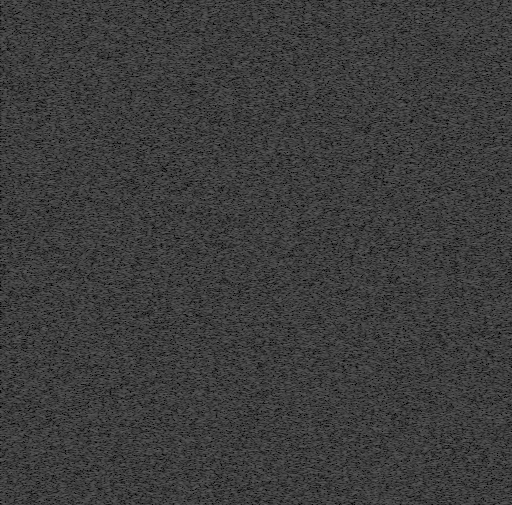wv_am: (223, 0, 228, 504)
wv_cw: (299, 0, 304, 504)
wv_lsb: (220, 136, 226, 236), (220, 378, 226, 461), (220, 256, 226, 321), (206, 304, 211, 369), (206, 233, 211, 290), (220, 322, 225, 356), (206, 443, 211, 465), (206, 474, 211, 495), (220, 490, 226, 504), (221, 237, 225, 255), (206, 80, 211, 92), (206, 370, 210, 383), (206, 291, 210, 303), (206, 27, 211, 35), (206, 135, 210, 144), (221, 12, 225, 21), (221, 466, 225, 474), (206, 416, 210, 424), (206, 496, 211, 502), (207, 64, 210, 74), (206, 436, 211, 442), (221, 357, 225, 364), (206, 384, 210, 390), (206, 44, 210, 50), (207, 110, 210, 117), (207, 36, 210, 43), (206, 396, 210, 401), (206, 425, 210, 430), (206, 410, 210, 415), (206, 402, 210, 406), (221, 365, 225, 369), (221, 27, 225, 31), (221, 475, 224, 480), (207, 391, 210, 395), (207, 181, 210, 185), (206, 470, 210, 473), (207, 105, 210, 109), (207, 100, 210, 104), (207, 93, 210, 97), (221, 462, 225, 465), (221, 373, 224, 377), (221, 46, 224, 50), (207, 431, 210, 435), (207, 218, 210, 221), (207, 145, 210, 148), (207, 131, 210, 134), (207, 127, 210, 130), (207, 122, 210, 125), (207, 118, 210, 121), (207, 466, 210, 469), (207, 76, 210, 79), (207, 60, 210, 63), (207, 54, 210, 57), (207, 2, 210, 5)
wv_wbfm: (418, 0, 435, 504), (231, 0, 243, 504)
